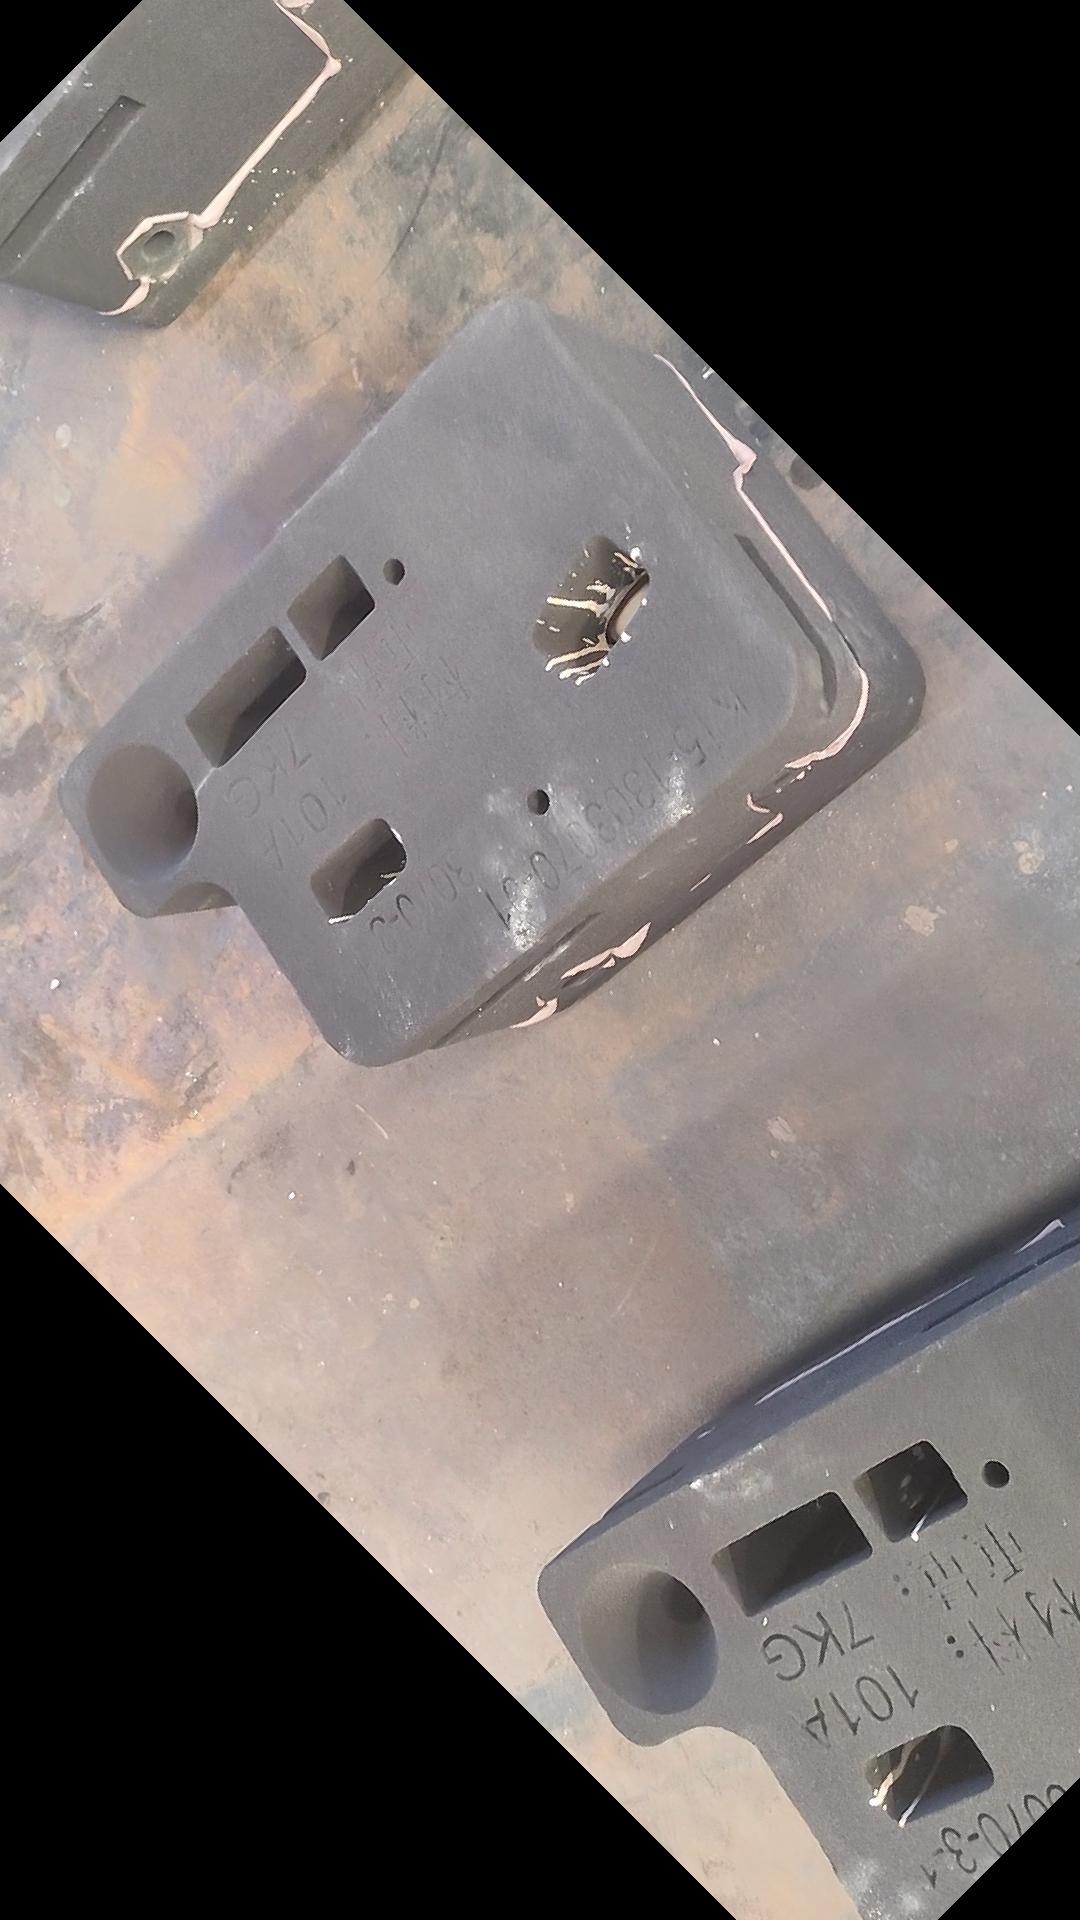pouring hole: (579, 1563, 719, 1716), (87, 744, 196, 884)
